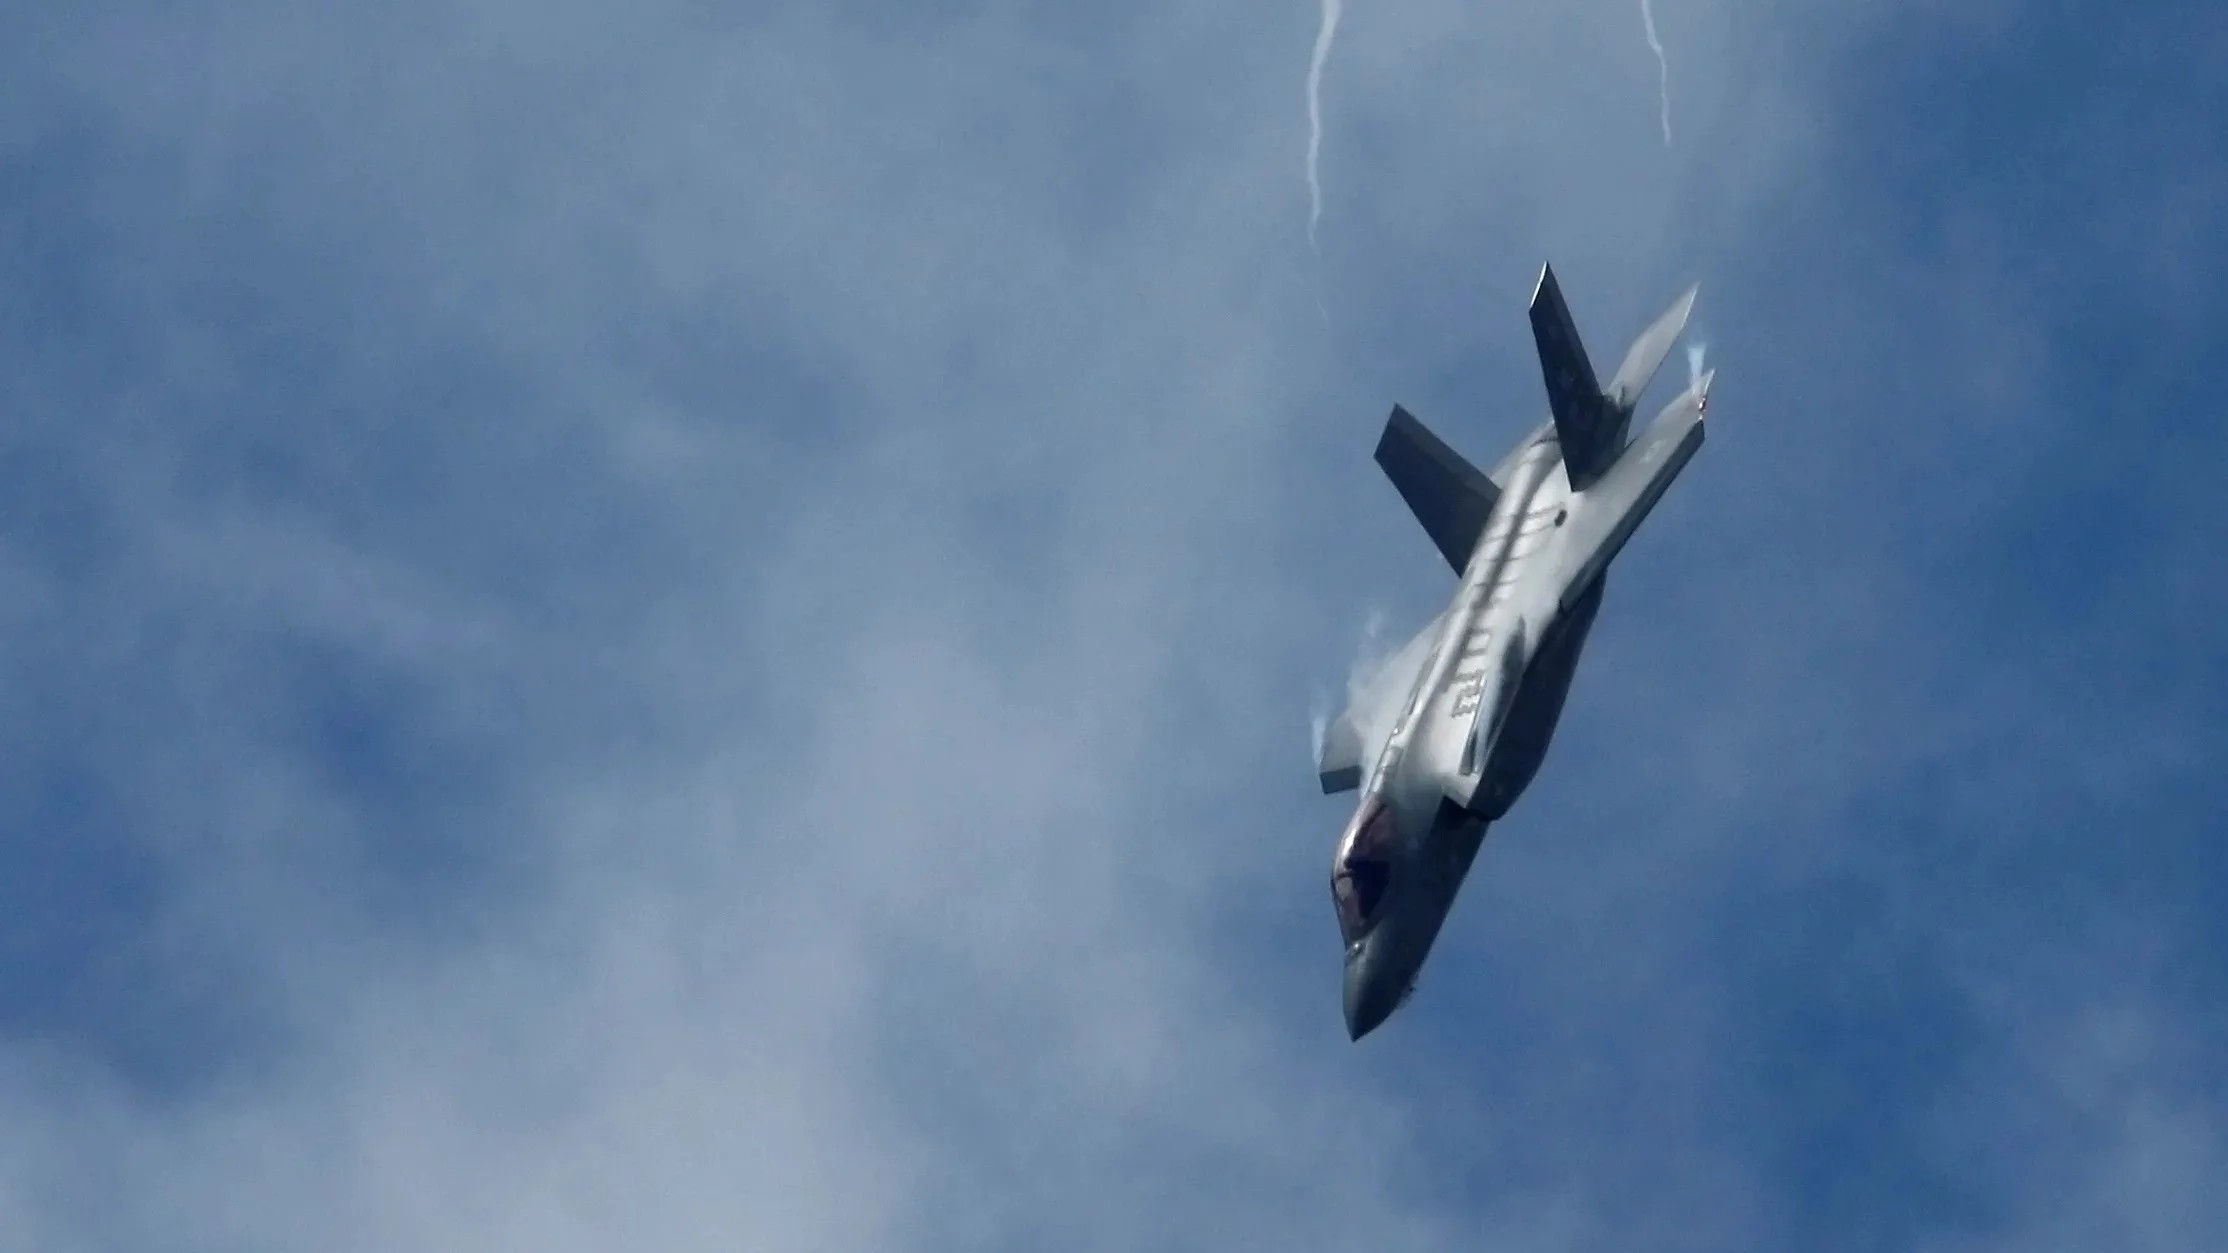F-35 Lightning: (1259, 239, 1744, 1085)
